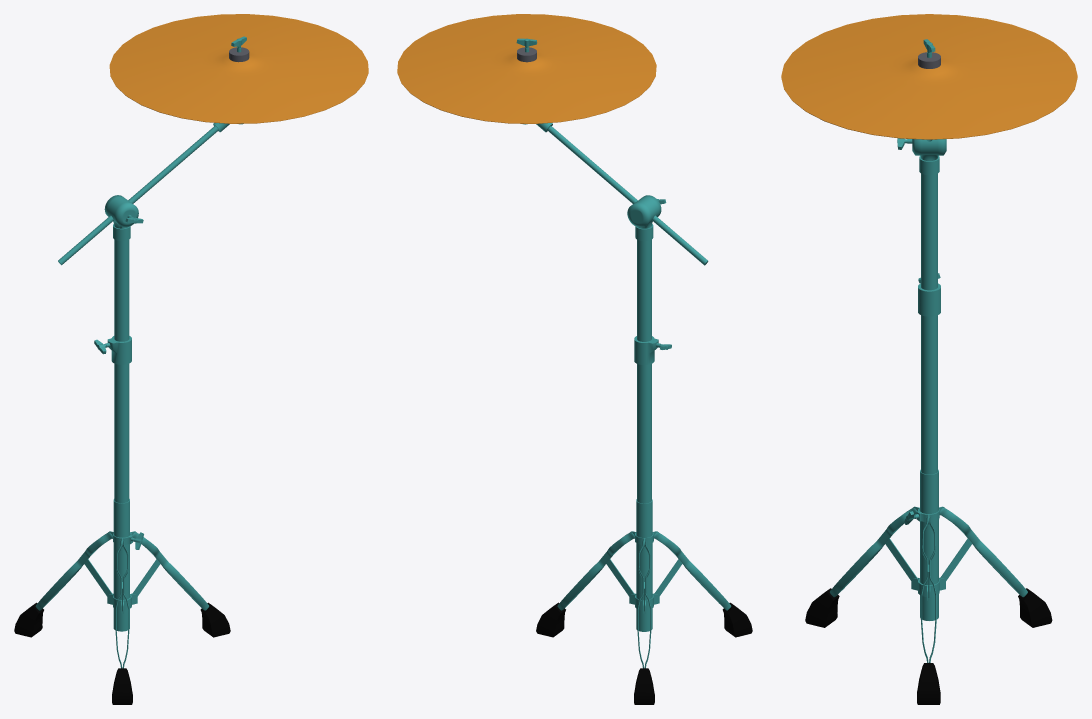
Rendered from crash_cymbal_FBX.fbx.
3 views of the same model, side by side, from view 1: azimuth 30°, elevation 25°; view 2: azimuth 150°, elevation 25°; view 3: azimuth 270°, elevation 25° (orthographic). The views are drawn at different scales.
Parts seen in each view (by area): view 1: crash_cymbal_LOW; view 2: crash_cymbal_LOW; view 3: crash_cymbal_LOW.
Boxes of the visible parts, box(x1,y1,x2,y2) form: crash_cymbal_LOW: box(14, 14, 368, 704); crash_cymbal_LOW: box(397, 14, 752, 704); crash_cymbal_LOW: box(781, 14, 1077, 704).
Bounding box in the file's own units: 63.88 × 122 × 49.03.
